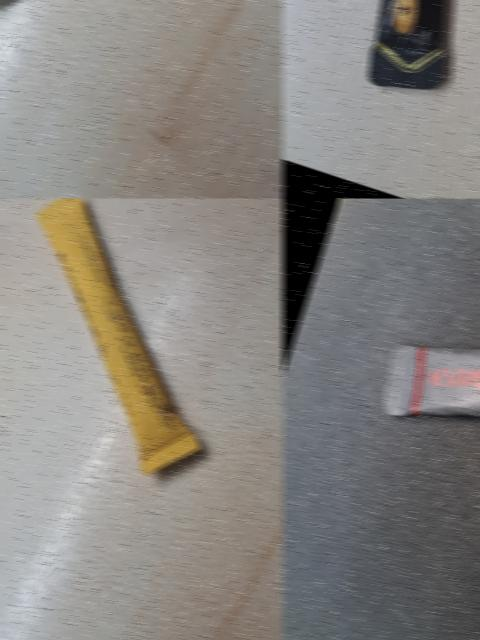KANU: (365, 265, 480, 495)
espresso_mini: (293, 0, 480, 124)
mix_coffee: (0, 198, 284, 511), (0, 0, 223, 148)
